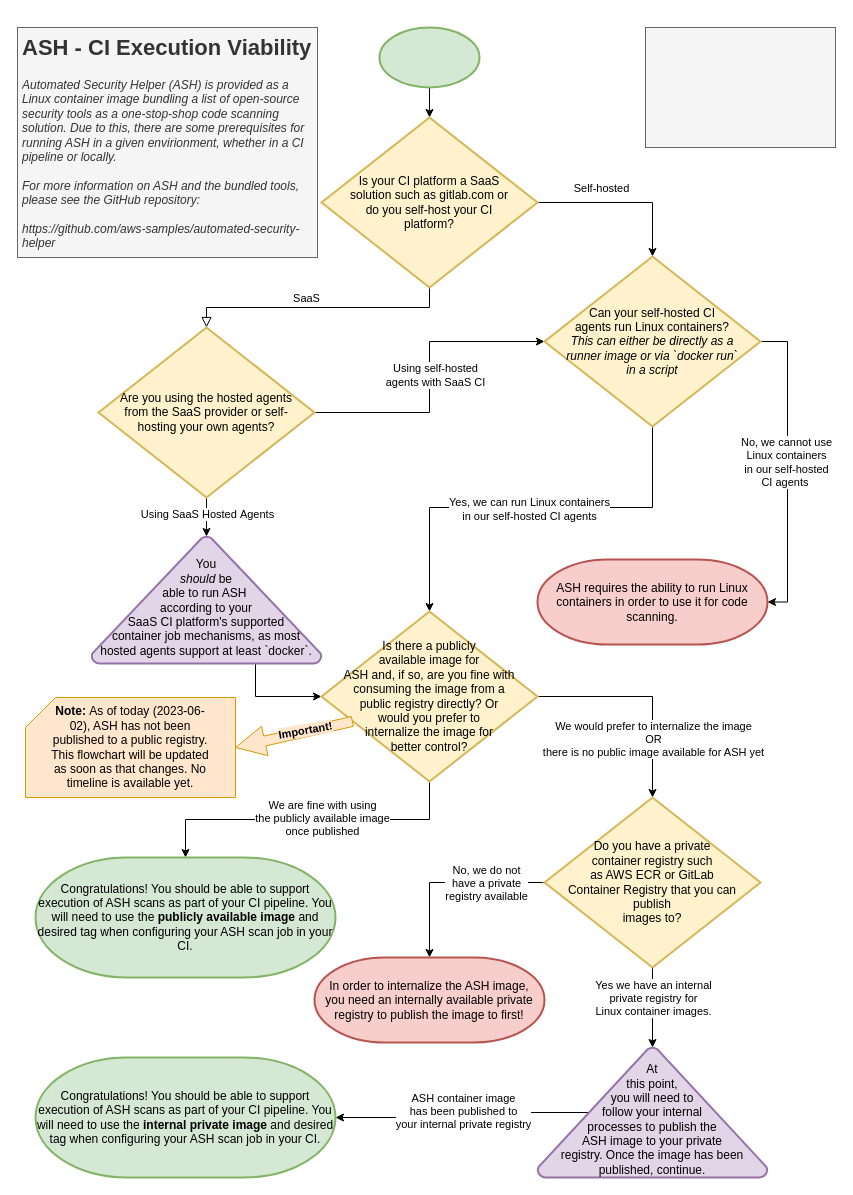
Image size: 853x1195. Some labels were removed from this diagram. The centre of each missing label's shape, as x and y in pixels:
"Last Update Date: 2023-06-04 Updated by: @nateferl" goes at (740,87).
"Start" goes at (429,57).
